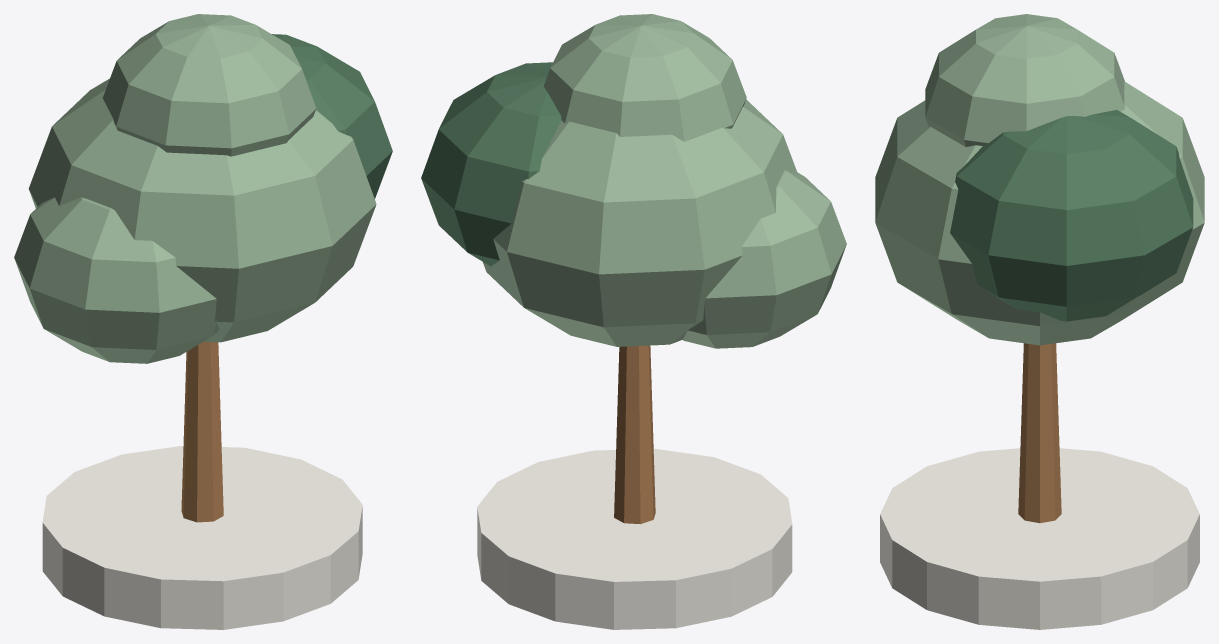
File: SM_Tree.obj
The picture shows the model from 3 angles, left to right: view 1: azimuth 30°, elevation 25°; view 2: azimuth 150°, elevation 25°; view 3: azimuth 270°, elevation 25°; orthographic projection.
Parts seen in each view (by area): view 1: SM_Tree; view 2: SM_Tree; view 3: SM_Tree.
Boxes of the visible parts, <box> form: SM_Tree: <box>14,14,392,629</box>; SM_Tree: <box>421,14,846,629</box>; SM_Tree: <box>875,14,1204,629</box>.
Bounding box in the file's own units: 3.2 × 4.44 × 2.47.
